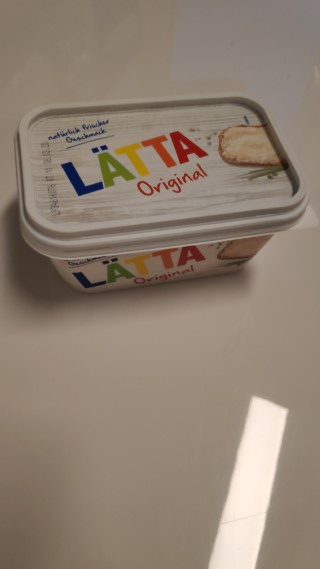laetta: (14, 91, 317, 293)
